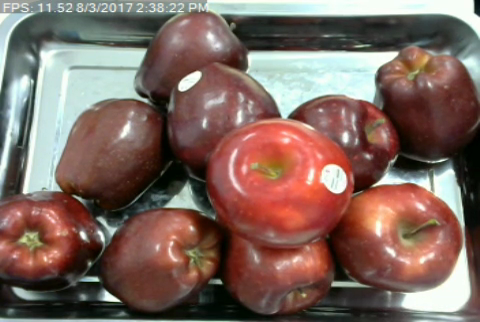Apple: (204, 115, 358, 249), (93, 205, 229, 319), (163, 60, 286, 185), (332, 181, 466, 294), (53, 95, 177, 209), (372, 42, 480, 166), (213, 215, 338, 318), (283, 93, 403, 194), (0, 186, 110, 296), (130, 7, 252, 105)
